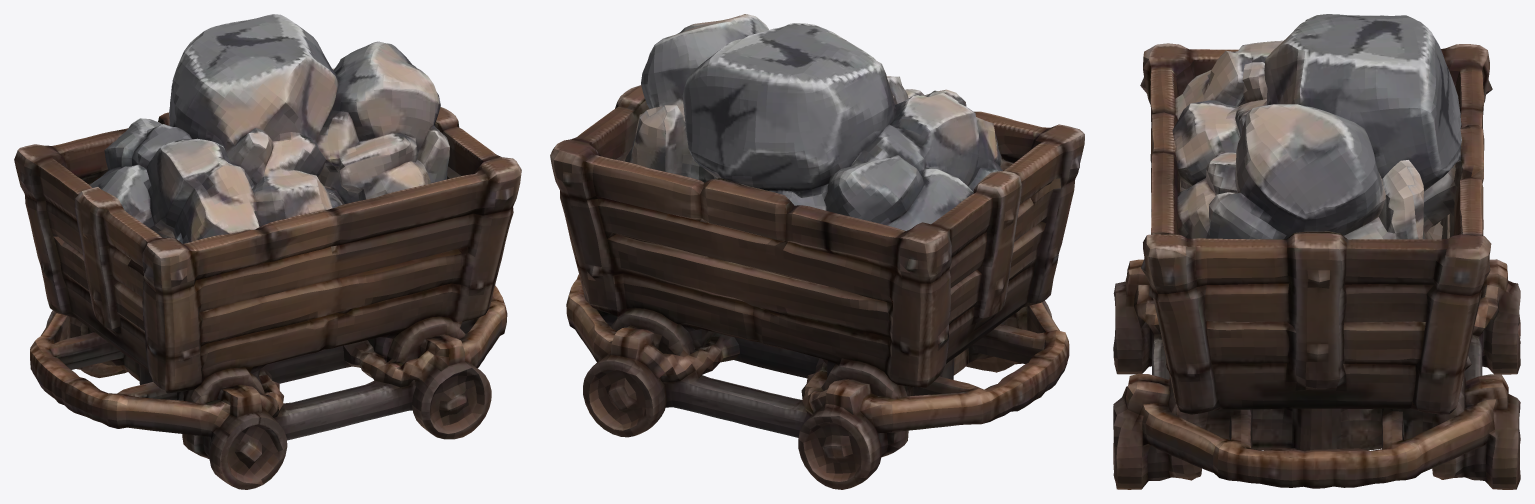
Rendered from Minecart_of_Rocks.glb.
3 views of the same model, side by side, from view 1: azimuth 30°, elevation 25°; view 2: azimuth 150°, elevation 25°; view 3: azimuth 270°, elevation 25° (orthographic). The views are drawn at different scales.
Bounding box in the file's own units: 1.91 × 1.46 × 1.37.
1 material, 1 textured.
